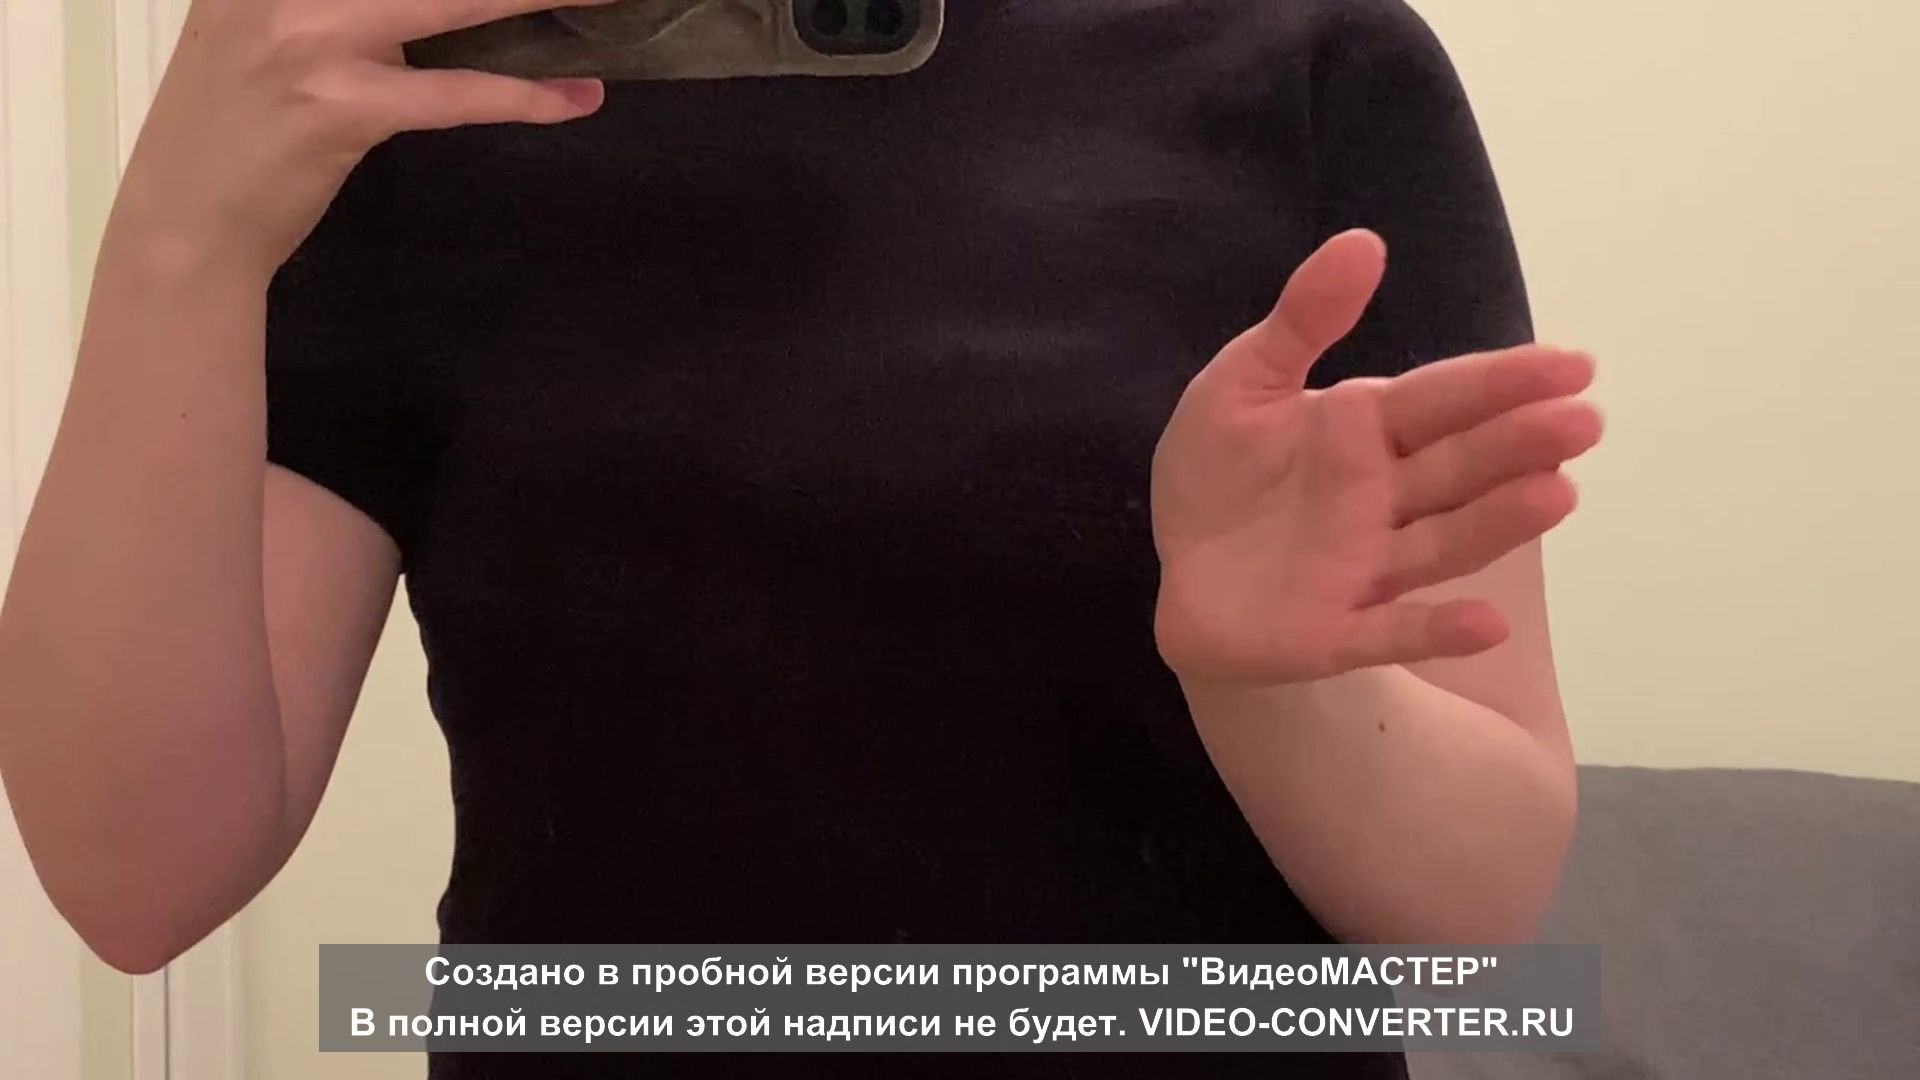Ладонь: (1150, 228, 1602, 669)
